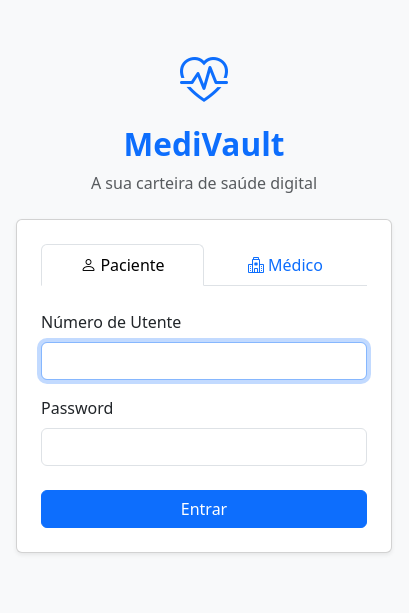
LoginPage › shows an error message and does not navigate when credentials are invalid
In the field: (204, 361) [41, 342, 367, 380], type "111222333"
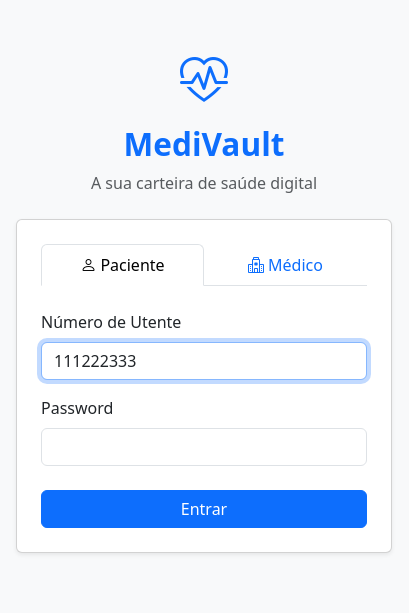
In the password field: (204, 447) [41, 428, 367, 466], type "wrong"
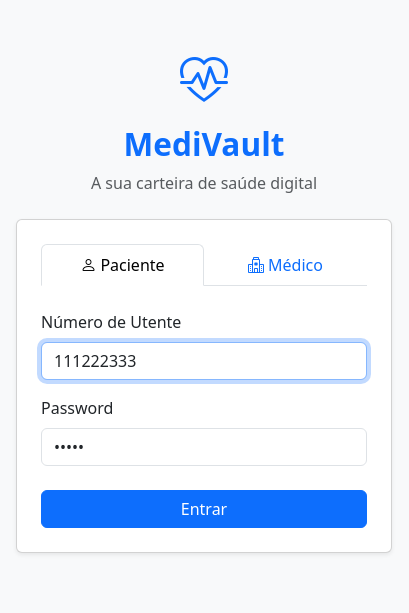
Click the button "Entrar": (204, 509) [41, 490, 367, 528]
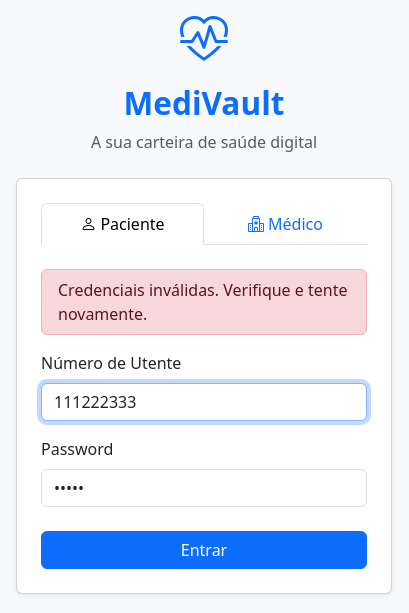
Expected: the text "Credenciais inválidas. Verifique e tente novamente." is shown, [41, 269, 367, 335]
